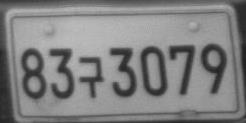0: (139, 45, 168, 96)
3: (109, 46, 137, 97), (48, 47, 75, 99)
7: (168, 43, 196, 95)
8: (19, 46, 47, 99)
9: (200, 41, 228, 94)
구: (77, 55, 105, 98)
